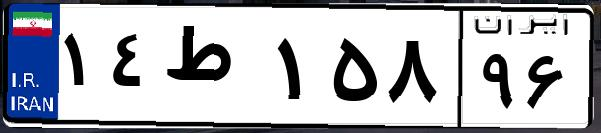1: (270, 28, 330, 110), (57, 26, 110, 100)
4: (110, 28, 158, 98)
5: (330, 28, 385, 110)
6: (525, 38, 570, 115)
8: (385, 28, 445, 110)
9: (475, 38, 525, 113)
ط: (158, 20, 270, 120)
